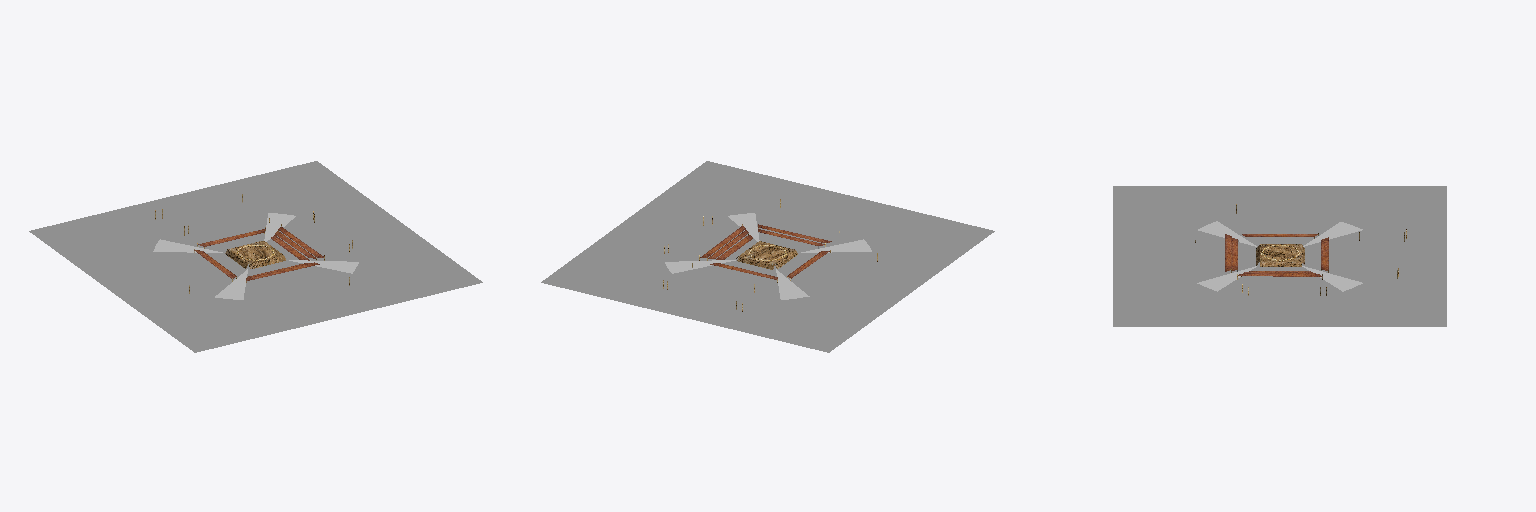
3 renders of one model, left to right at view 1: azimuth 30°, elevation 25°; view 2: azimuth 150°, elevation 25°; view 3: azimuth 270°, elevation 25°, orthographic.
Parts seen in each view (by area): view 1: floor_Plane, Plane.001; view 2: floor_Plane, Plane.001; view 3: floor_Plane, Plane.001.
Boxes of the visible parts, <box> form: floor_Plane: <box>29,161,482,352</box>; Plane.001: <box>228,241,283,263</box>; floor_Plane: <box>541,161,994,352</box>; Plane.001: <box>740,241,794,264</box>; floor_Plane: <box>1113,186,1446,326</box>; Plane.001: <box>1260,244,1301,261</box>.
Bounding box in the file's own units: 15.96 × 0.918 × 15.96.
Materials: 14 (3 with a texture image).